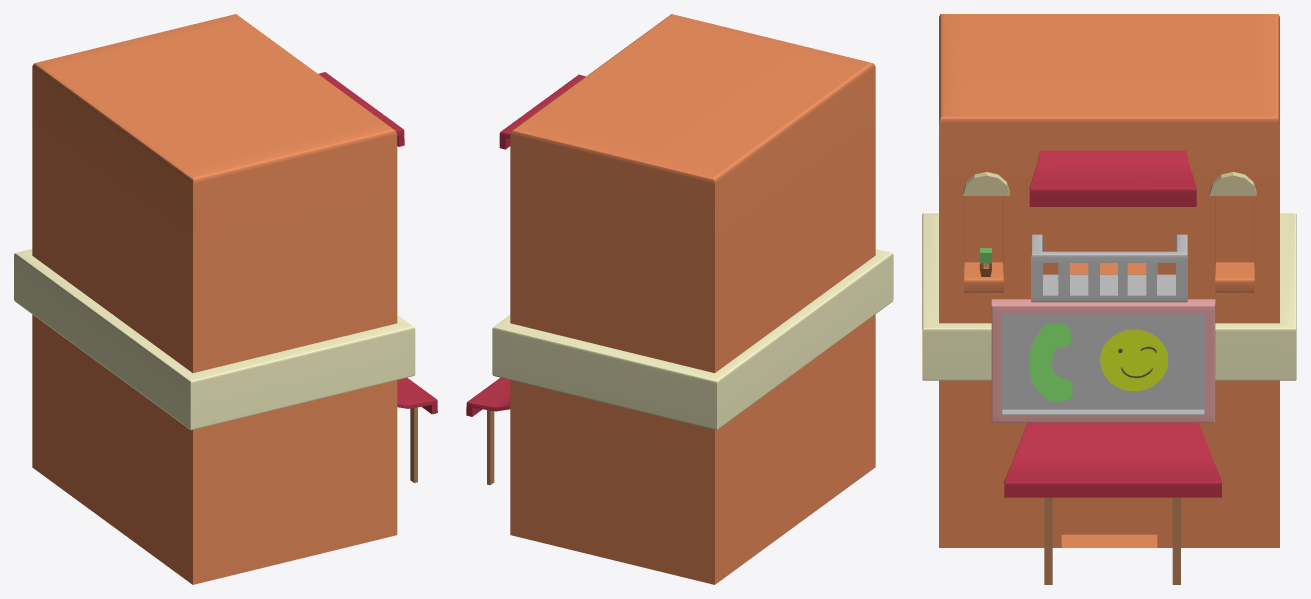
Rendered from BuildingShort_01.fbx.
3 views of the same model, side by side, from view 1: azimuth 30°, elevation 25°; view 2: azimuth 150°, elevation 25°; view 3: azimuth 270°, elevation 25° (orthographic). The views are drawn at different scales.
Parts seen in each view (by area): view 1: polySurface699; view 2: polySurface699; view 3: polySurface699.
Boxes of the visible parts, bbox=[...] form: polySurface699: bbox=[14, 14, 437, 584]; polySurface699: bbox=[466, 14, 893, 584]; polySurface699: bbox=[922, 14, 1296, 584].
Bounding box in the file's own units: 4.22 × 5.73 × 4.52.
Materials: 1 (1 with a texture image).
